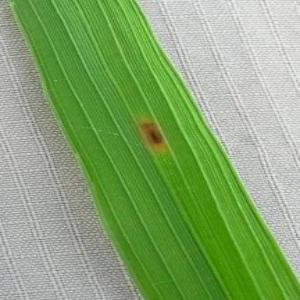Brown_Spot: (131, 109, 174, 157)
